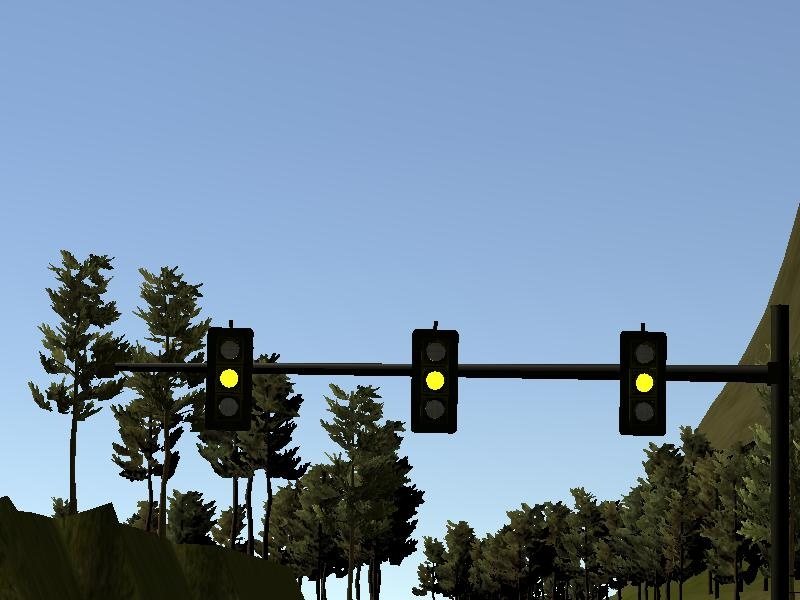YELLOW: (205, 327, 255, 432), (410, 328, 460, 433), (616, 332, 666, 437)
